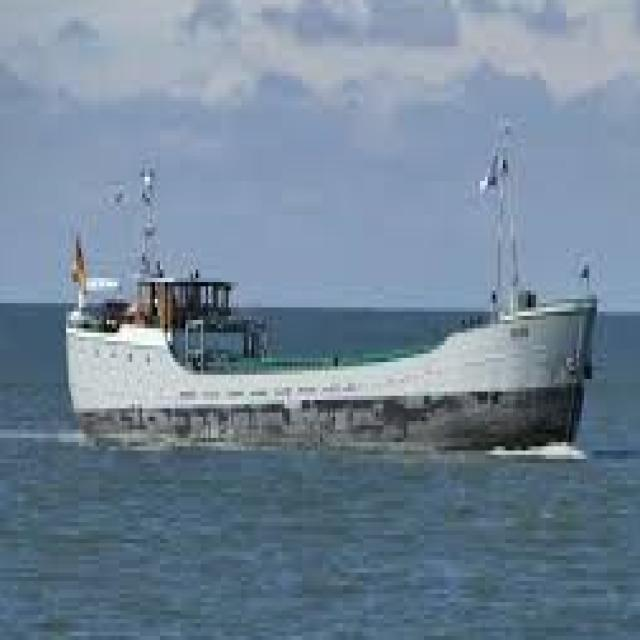cargoship: (59, 146, 603, 465)
